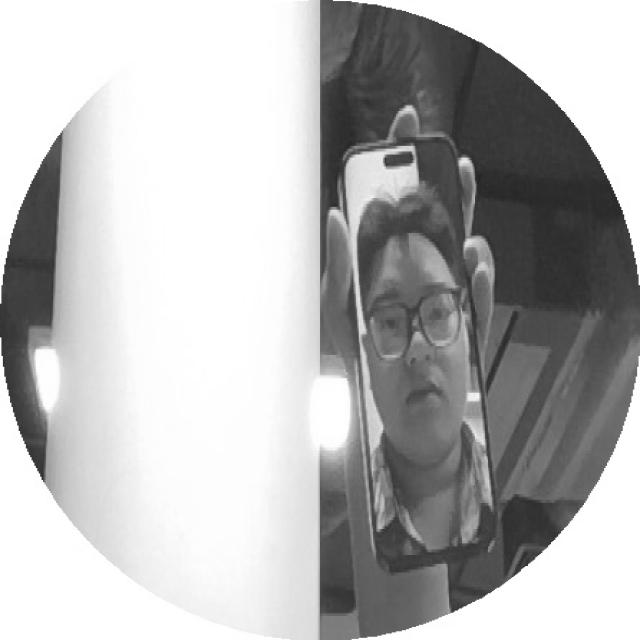fake: (294, 127, 530, 582), (346, 127, 505, 579)
